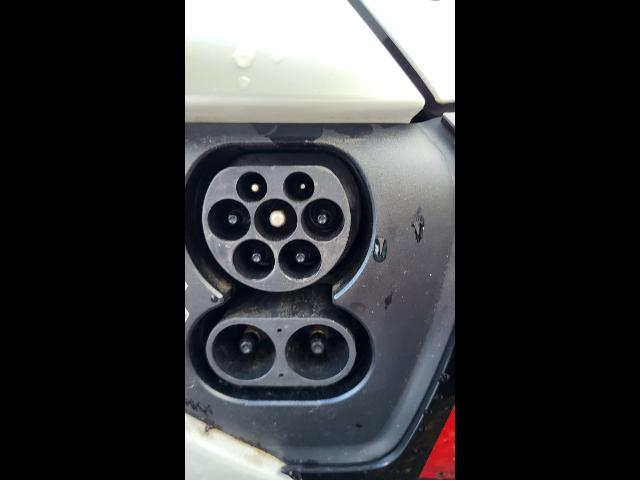inlet: (202, 166, 350, 292)
inlet-above-left: (236, 172, 267, 203)
inlet-above-right: (283, 171, 314, 202)
inlet-below-left: (233, 239, 275, 280)
inlet-below-right: (278, 239, 322, 283)
inlet-circle: (254, 198, 298, 241)
inlet-circle-left: (207, 198, 251, 241)
inlet-circle-right: (301, 198, 345, 242)
inlet-minus: (284, 324, 349, 380)
inlet-plus: (212, 324, 276, 380)
